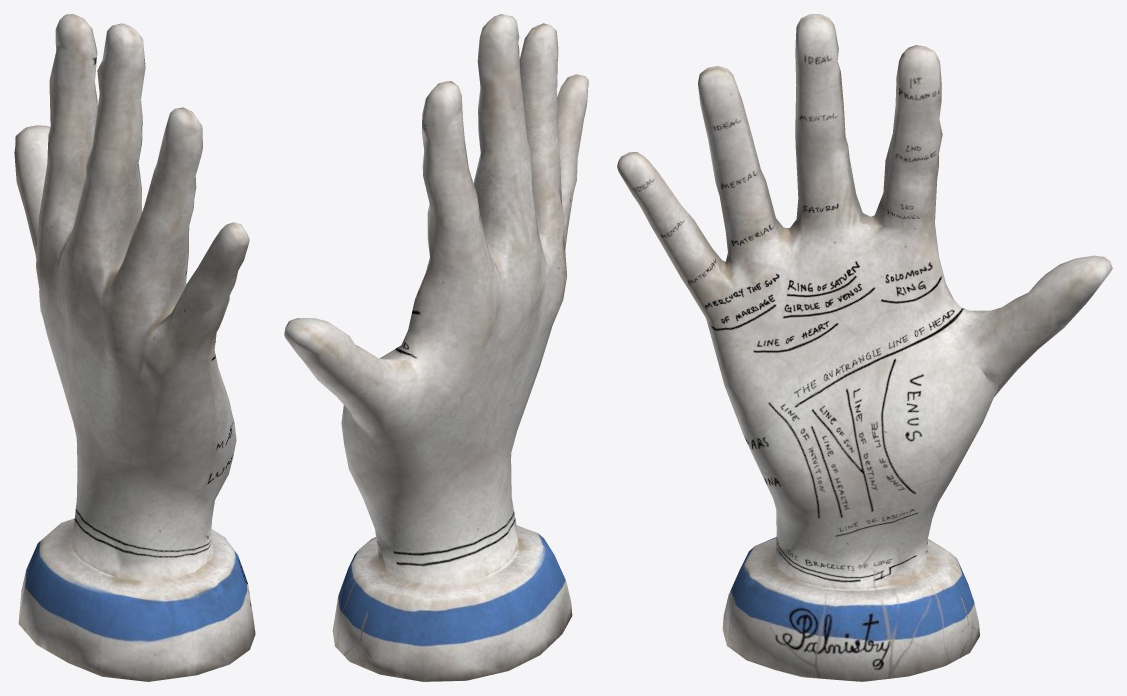
Rendered from hand.glb.
3 views of the same model, side by side, from view 1: azimuth 30°, elevation 25°; view 2: azimuth 150°, elevation 25°; view 3: azimuth 270°, elevation 25° (orthographic). The views are drawn at different scales.
Visible parts, largest first — view 1: HAND_Model.001; view 2: HAND_Model.001; view 3: HAND_Model.001.
Boxes of the visible parts, left/top/right/bottom form: HAND_Model.001: left=14, top=14, right=255, bottom=681; HAND_Model.001: left=284, top=14, right=588, bottom=681; HAND_Model.001: left=617, top=14, right=1112, bottom=681.
Bounding box in the file's own units: 0.1456 × 0.4432 × 0.3283.
Materials: 1 (1 with a texture image).
